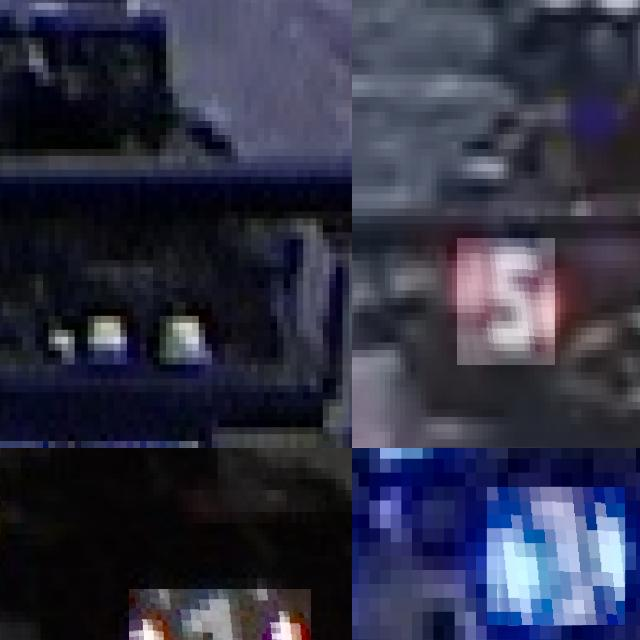B3: (487, 487, 625, 625)
R1: (129, 589, 311, 640)
R5: (457, 238, 555, 365)
